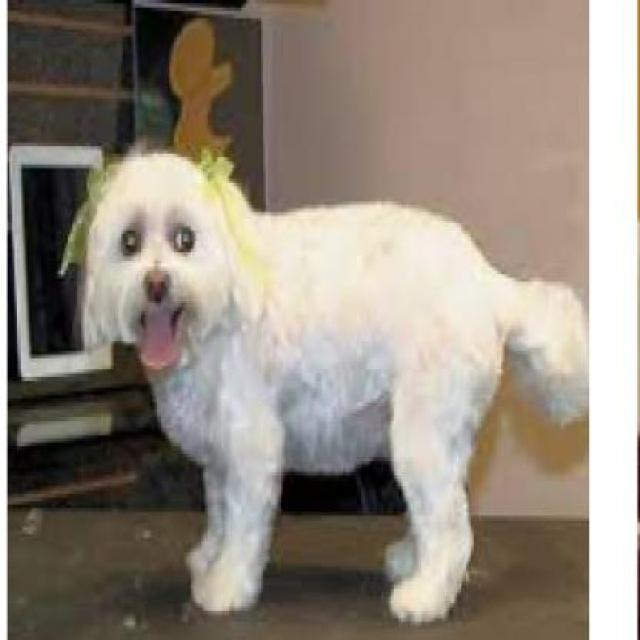Dog: (60, 146, 588, 625)
